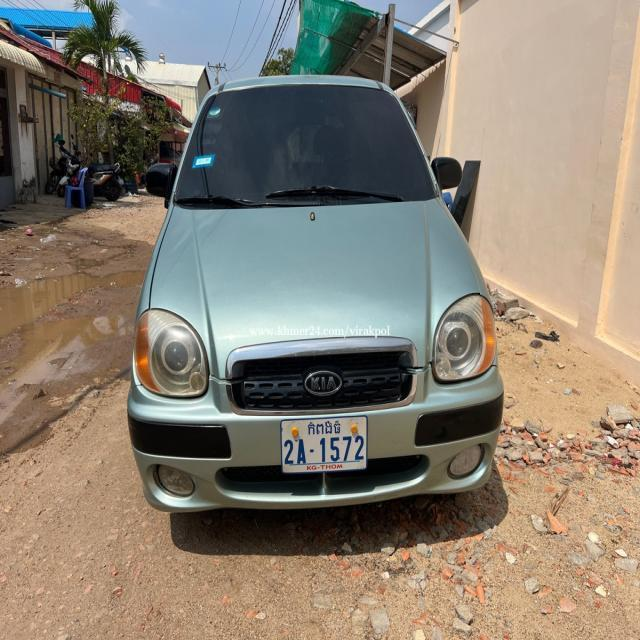Kampong_Thom: (305, 419, 343, 438)
